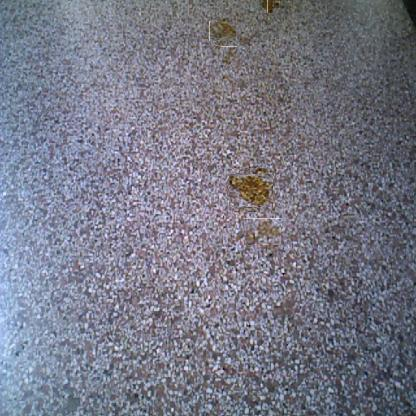liquid: (232, 170, 270, 209), (246, 216, 279, 248), (211, 20, 235, 43), (221, 46, 237, 65), (264, 0, 277, 10)
